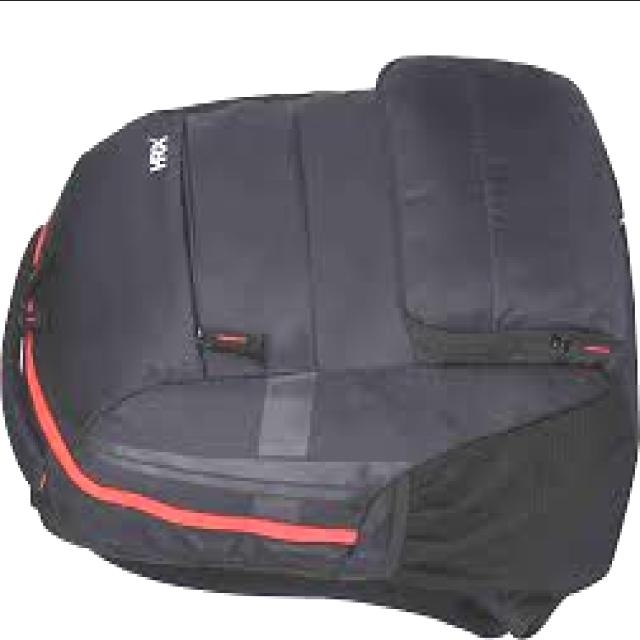backpack: (1, 56, 638, 640)
